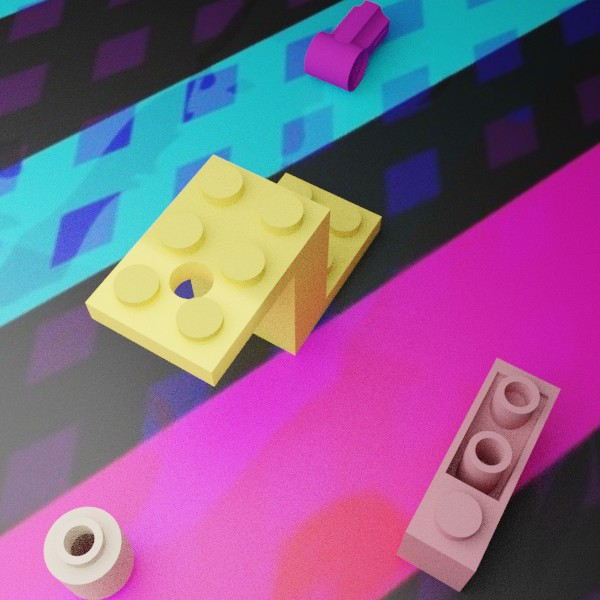3062b: (43, 506, 134, 599)
32013: (304, 0, 389, 92)
4287: (396, 357, 560, 591)
76766: (85, 154, 381, 386)
